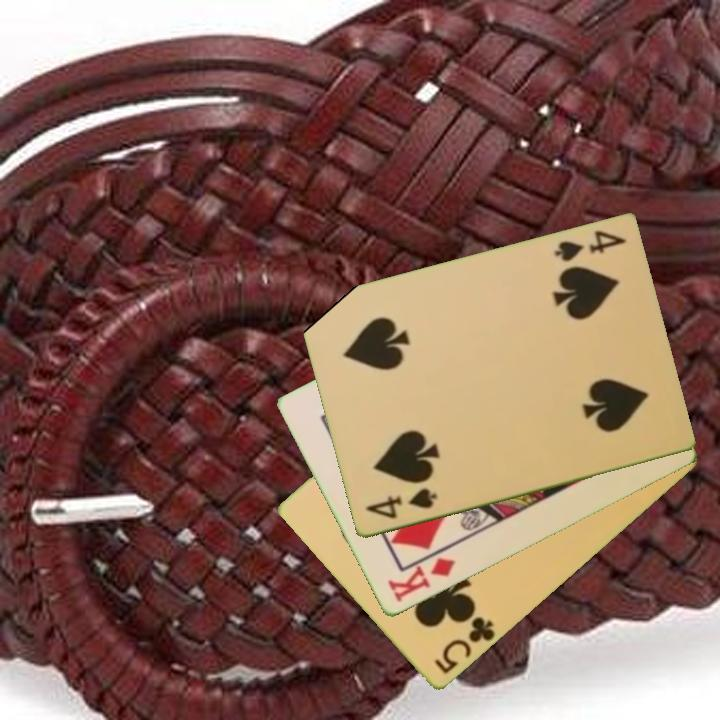4s: (550, 227, 629, 265), (362, 485, 440, 523)
5c: (430, 613, 498, 678)
Kd: (384, 554, 458, 606)
